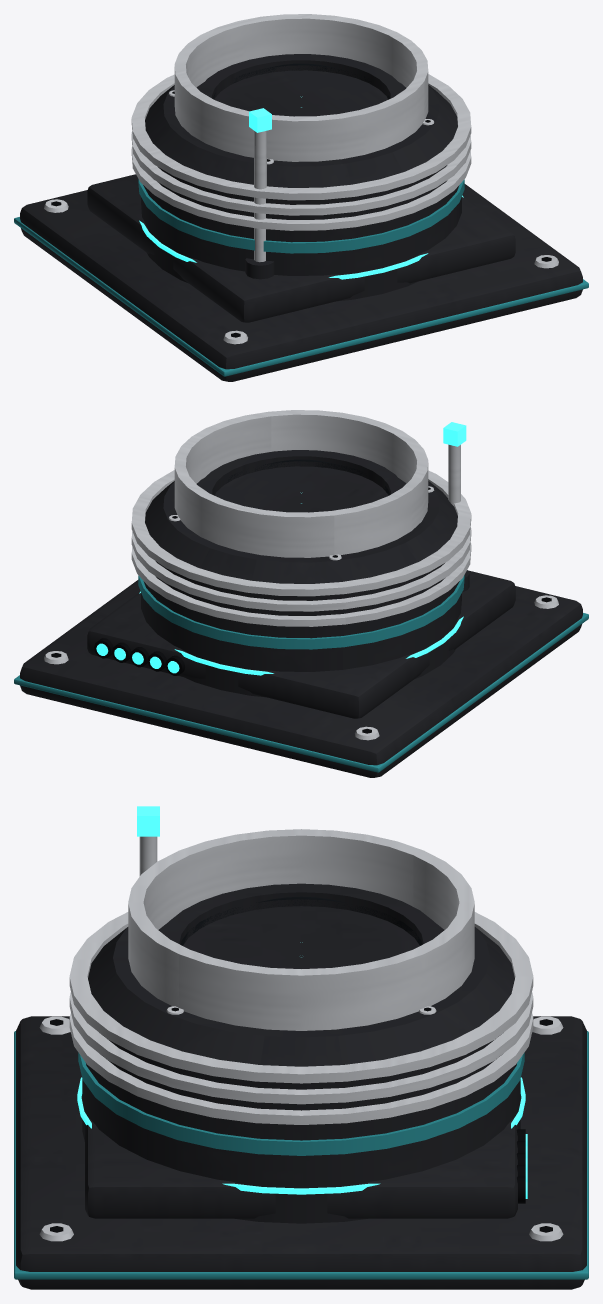
File: sensor_5.glb
3 views of the same model, one above another, from view 1: azimuth 30°, elevation 25°; view 2: azimuth 150°, elevation 25°; view 3: azimuth 270°, elevation 25° (orthographic). The views are drawn at different scales.
Parts seen in each view (by area): view 1: Body, RunningLight, AntennaTip; view 2: Body, RunningLight, AntennaTip; view 3: Body, RunningLight, AntennaTip.
Boxes of the visible parts, <box> form: Body: <box>14,14,588,381</box>; RunningLight: <box>139,195,463,279</box>; AntennaTip: <box>249,108,271,132</box>; Body: <box>14,410,588,777</box>; RunningLight: <box>139,591,463,675</box>; AntennaTip: <box>443,422,466,446</box>; Body: <box>14,829,588,1289</box>; RunningLight: <box>77,1077,525,1194</box>; AntennaTip: <box>137,806,159,836</box>.
Size of the model in its own units: 0.2256 by 0.1295 by 0.2256.
Materials: 7 (2 with a texture image).
